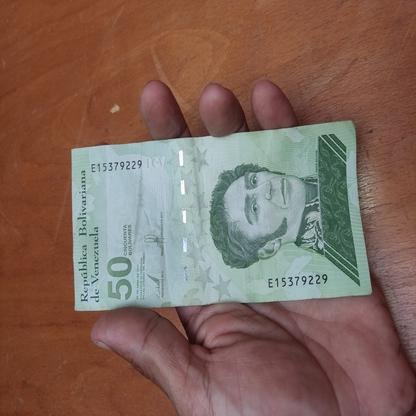fifty-front-vef: (71, 119, 371, 312)
